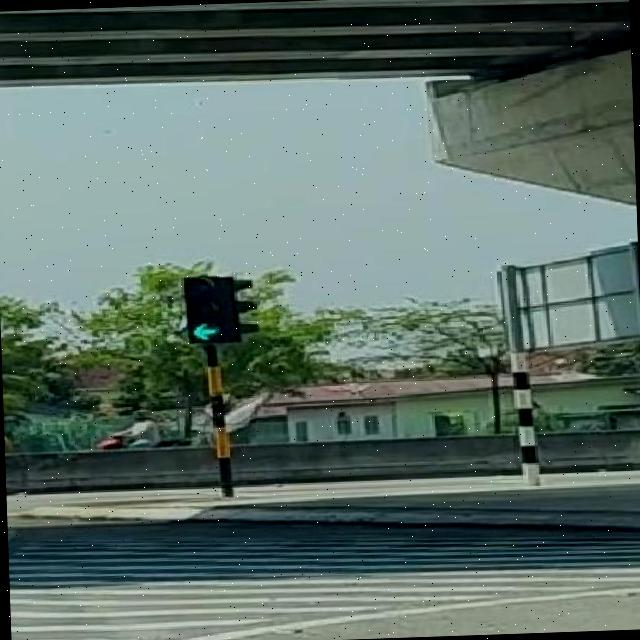green_light: (182, 275, 219, 342)
